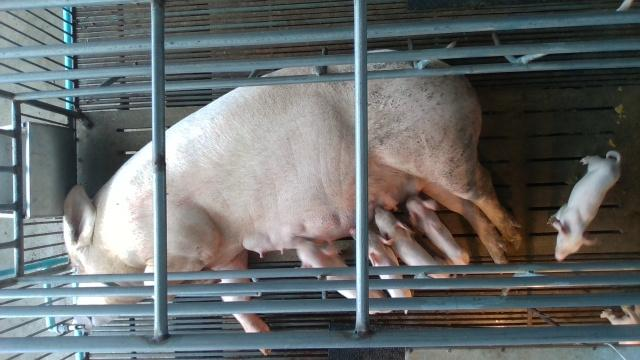piglet: (549, 150, 622, 261), (293, 237, 392, 314), (373, 206, 457, 278), (349, 227, 412, 314), (405, 198, 469, 264)
sow-sleep-lactate: (61, 47, 522, 358)
